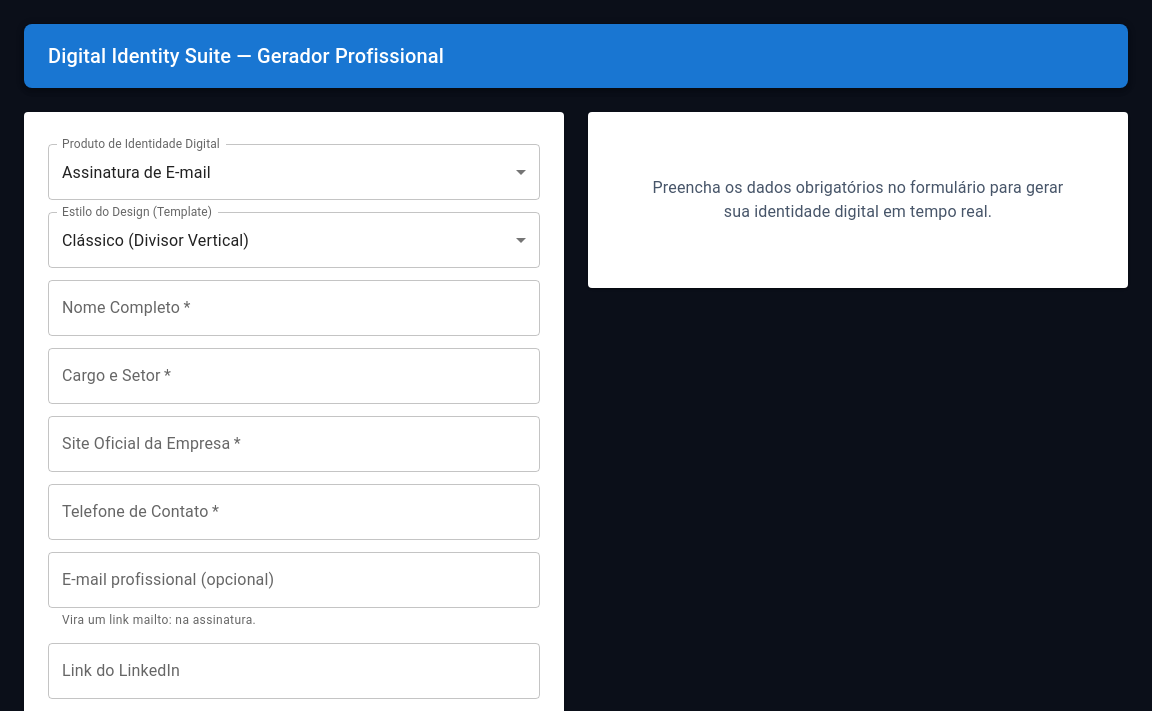
Scenario: PNG e limite do Gmail › mostra a espera enquanto gera o PNG e não aceita um segundo clique
The width and height of the screenshot is (1152, 711).
Type "Ada Lovelace" into the field labelled "Nome Completo *" at [294, 308], box x1=48 y1=280 x2=540 y2=336
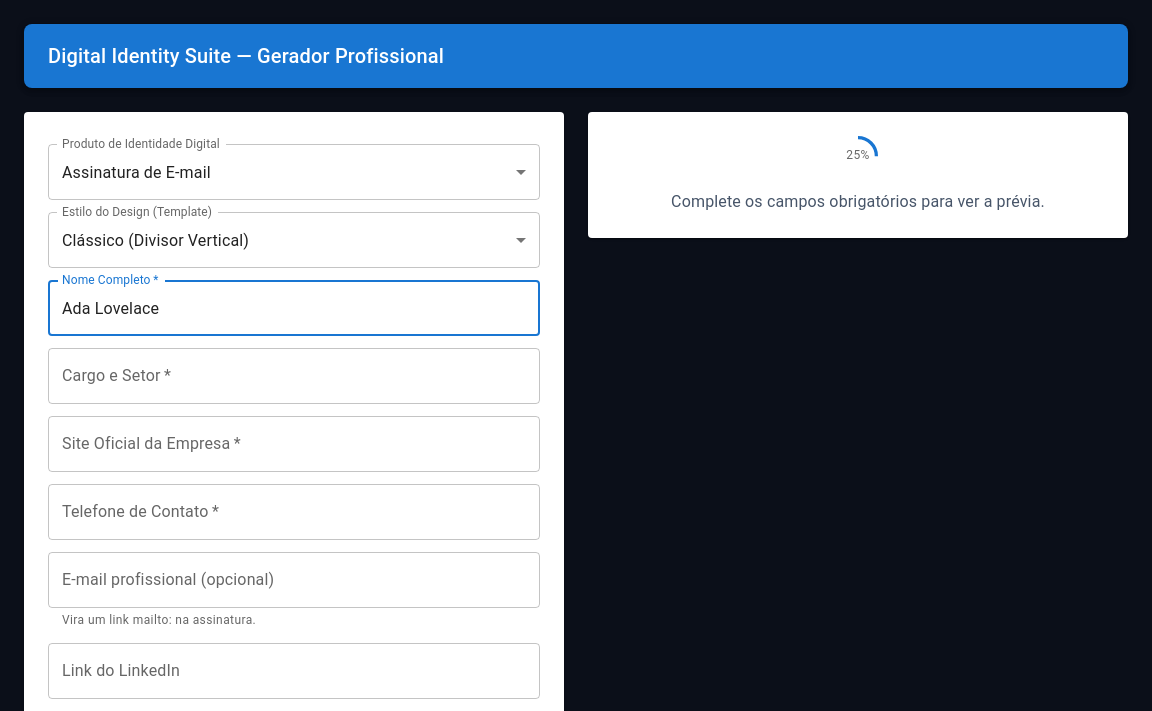
Type "Engenheira" into the field labelled "Cargo e Setor *" at [294, 376], box x1=48 y1=348 x2=540 y2=404
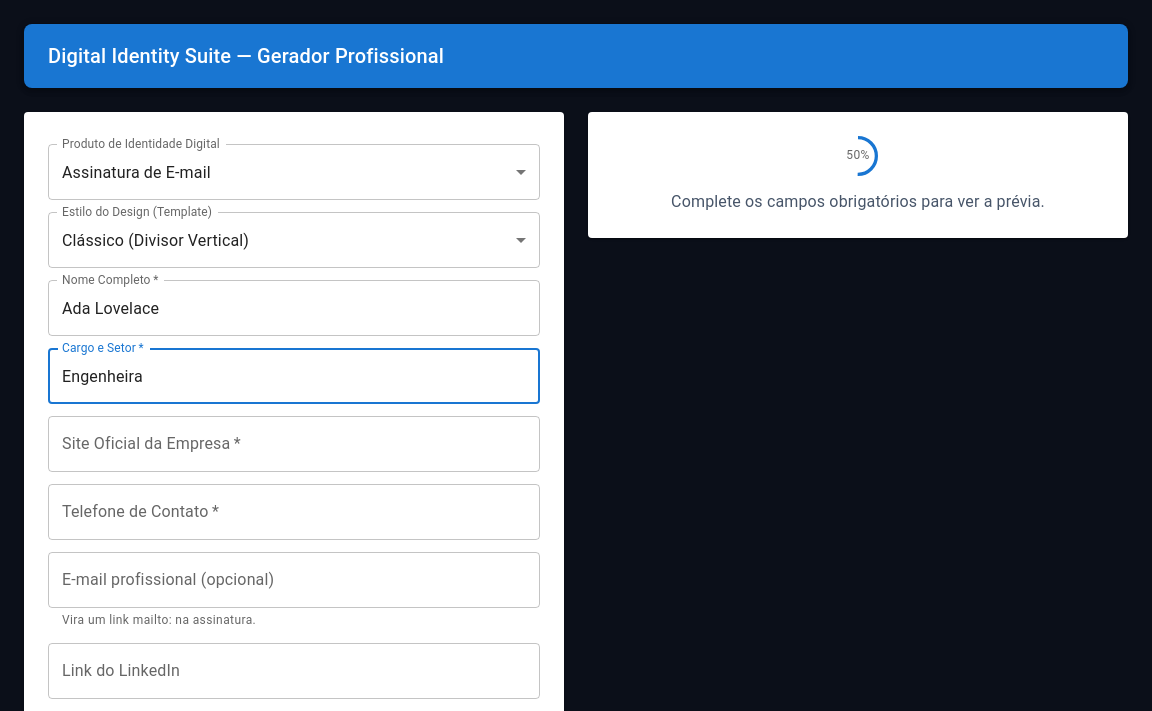
Type "empresa.com.br" into the field labelled "Site Oficial da Empresa *" at [294, 444], box x1=48 y1=416 x2=540 y2=472
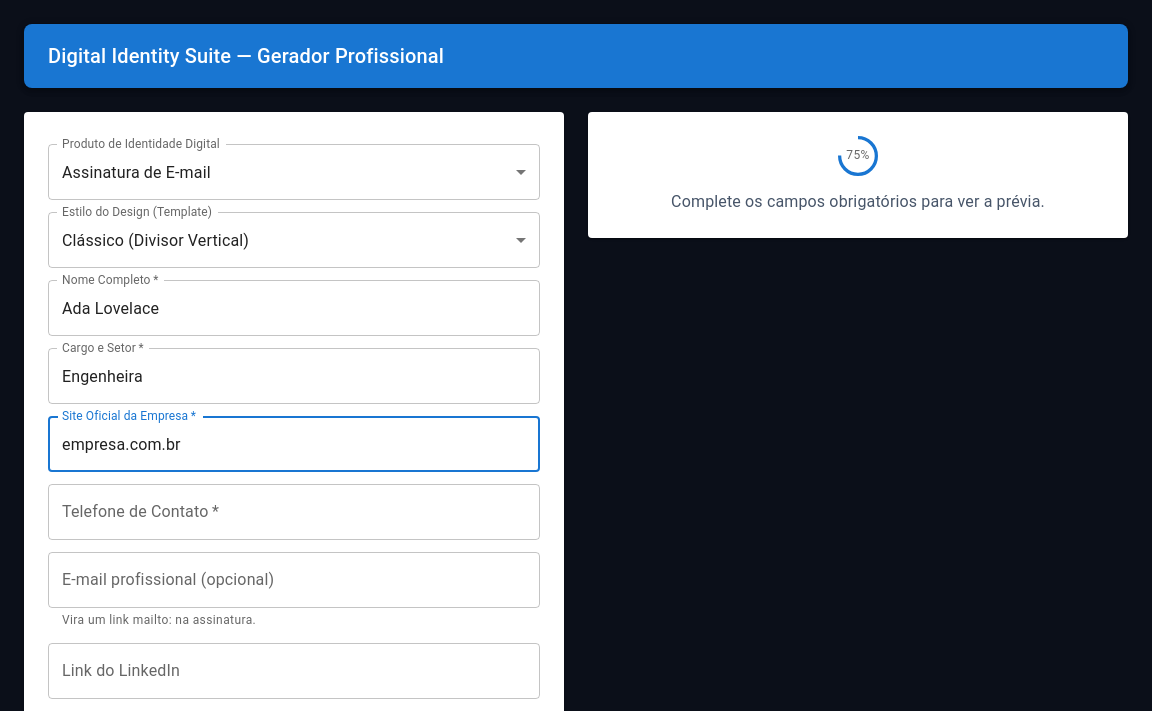
Type "11 98888-7777" into the field labelled "Telefone de Contato *" at [294, 512], box x1=48 y1=484 x2=540 y2=540
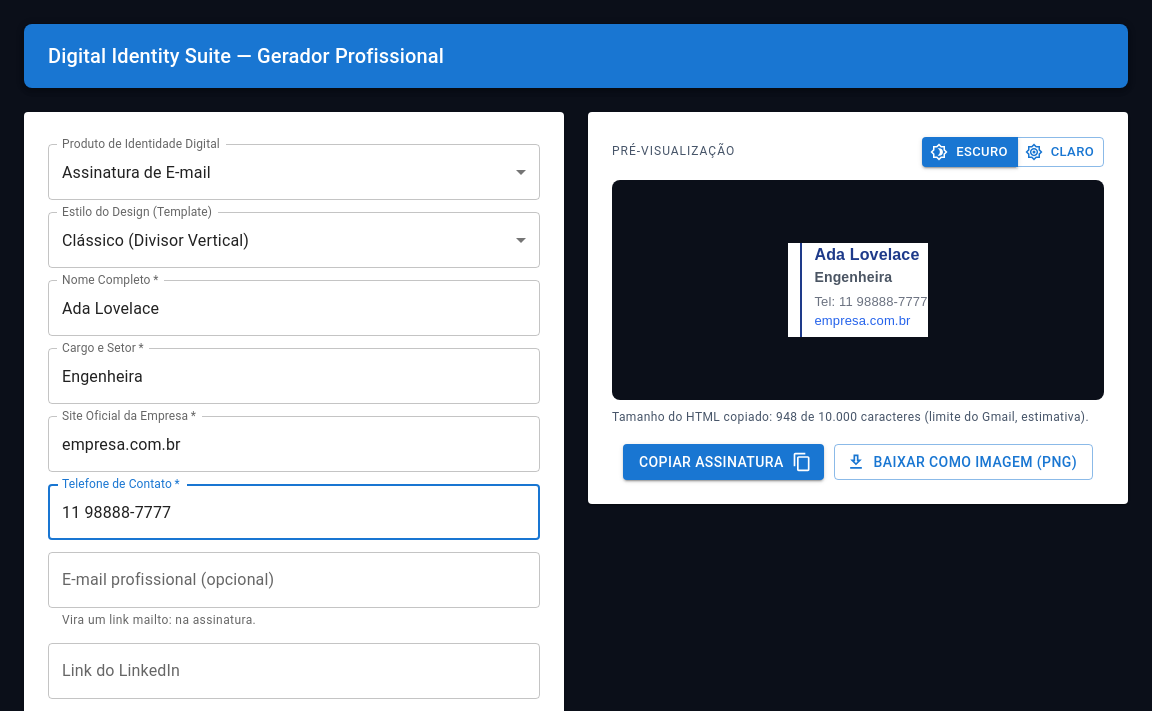
Click the button "Baixar como imagem (PNG)" at [963, 462], box x1=834 y1=444 x2=1093 y2=480
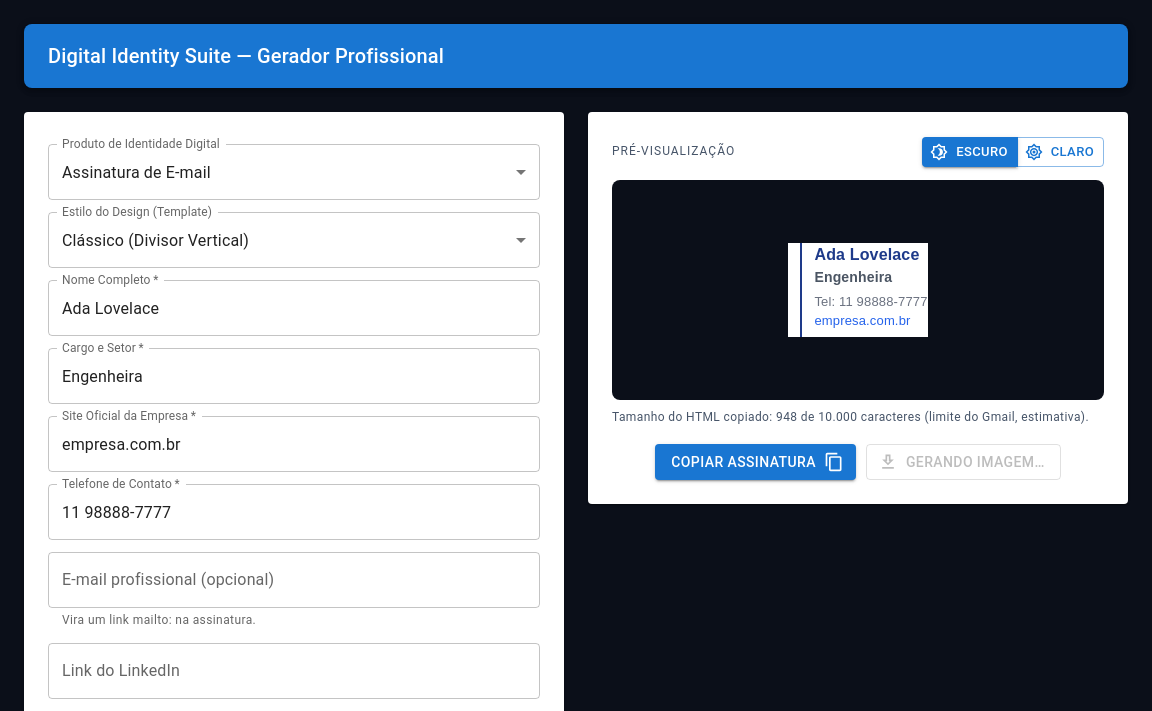
Expected: the button "Gerando imagem…" is disabled
Click the button "Gerando imagem…" at [963, 462], box x1=866 y1=444 x2=1061 y2=480
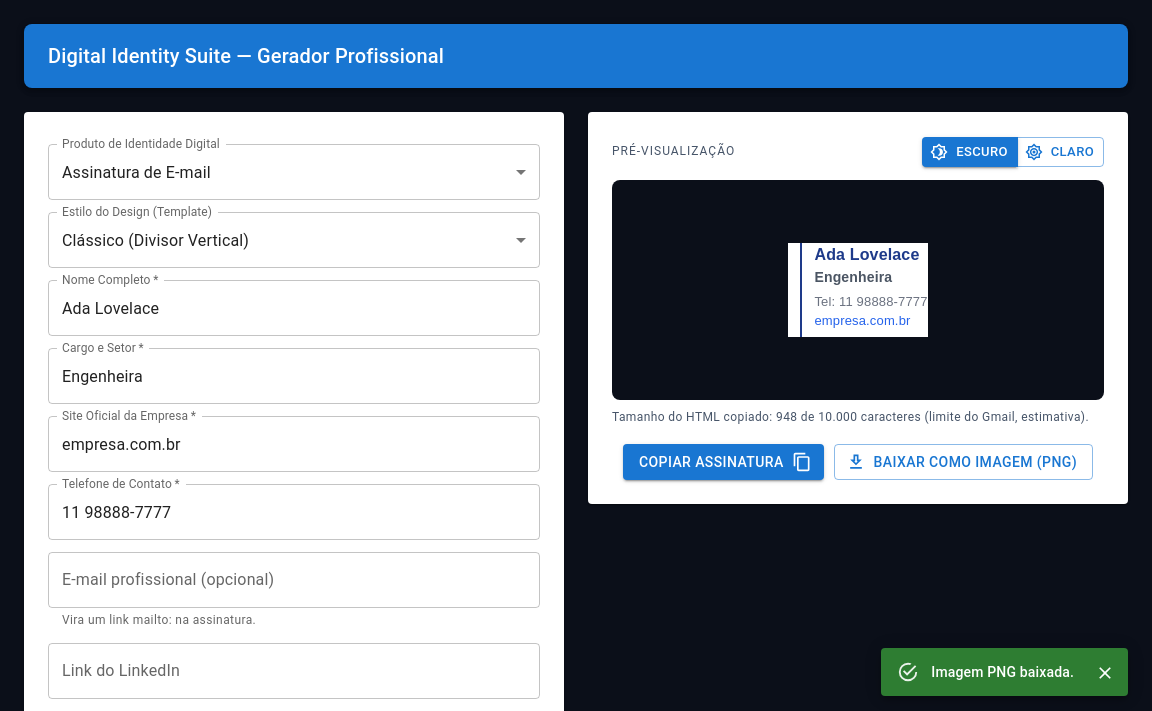
Expected: the text "Imagem PNG baixada." is shown, x1=931 y1=664 x2=1074 y2=680
Expected: the button "Baixar como imagem (PNG)" is enabled, x1=834 y1=444 x2=1093 y2=480
